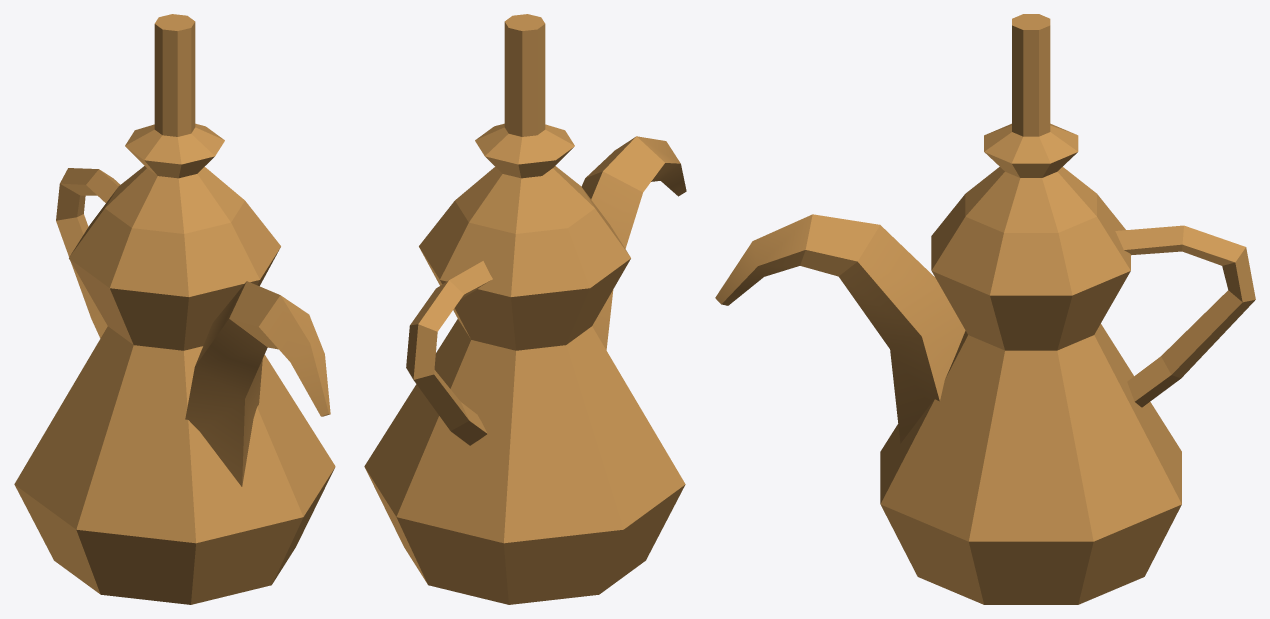
File: SM_Prop_Gold_Teapot_05.glb
3 views of the same model, side by side, from view 1: azimuth 30°, elevation 25°; view 2: azimuth 150°, elevation 25°; view 3: azimuth 270°, elevation 25° (orthographic).
Visible parts, largest first — view 1: SM_Prop_Gold_Teapot_05; view 2: SM_Prop_Gold_Teapot_05; view 3: SM_Prop_Gold_Teapot_05.
Boxes of the visible parts, box(x1,y1,x2,y2) form: SM_Prop_Gold_Teapot_05: box(14, 14, 335, 604); SM_Prop_Gold_Teapot_05: box(364, 14, 686, 604); SM_Prop_Gold_Teapot_05: box(715, 14, 1255, 604).
Size of the model in its own units: 0.3681 by 0.7206 by 0.6603.
1 material, 1 textured.
